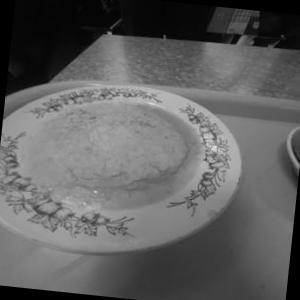porridge: (8, 72, 212, 232)
